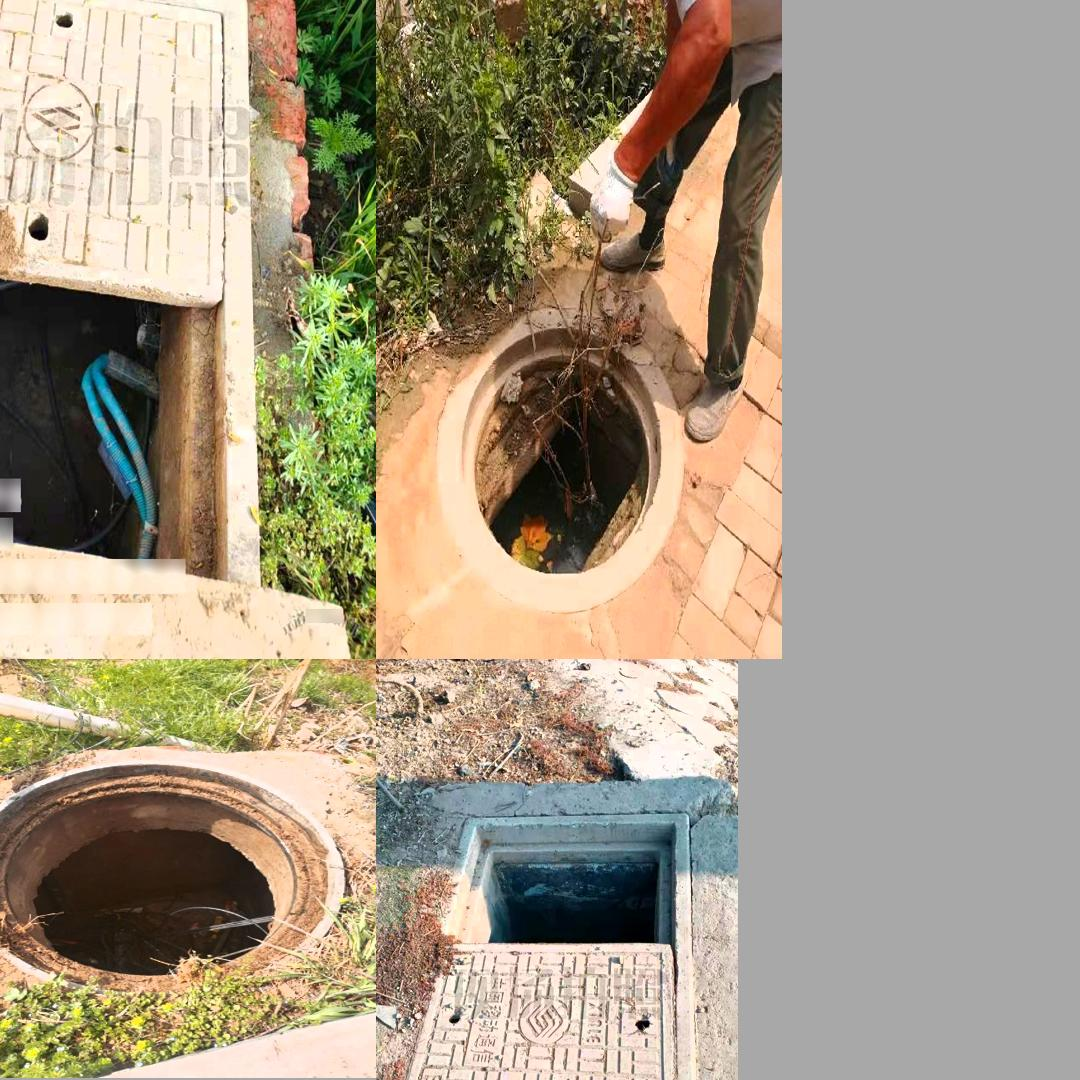lose: (0, 0, 243, 618), (0, 757, 346, 1003), (400, 812, 697, 1080), (437, 309, 682, 609)
